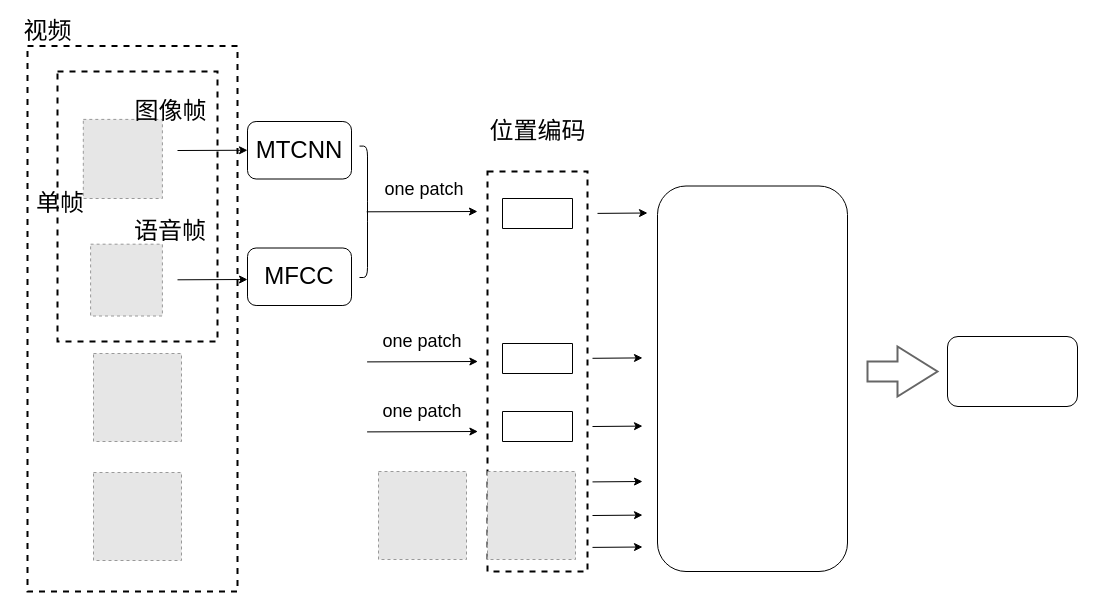
The diagram is 1095 pixels wide and 610 high, and some of its shapes have lost their labels. Grey dashed boxes stand in for pictures. The centre of each missing label's shape, as x and y in pixels:
Transformer Encoder: the point at 752,378
分类器: the point at 1012,371
